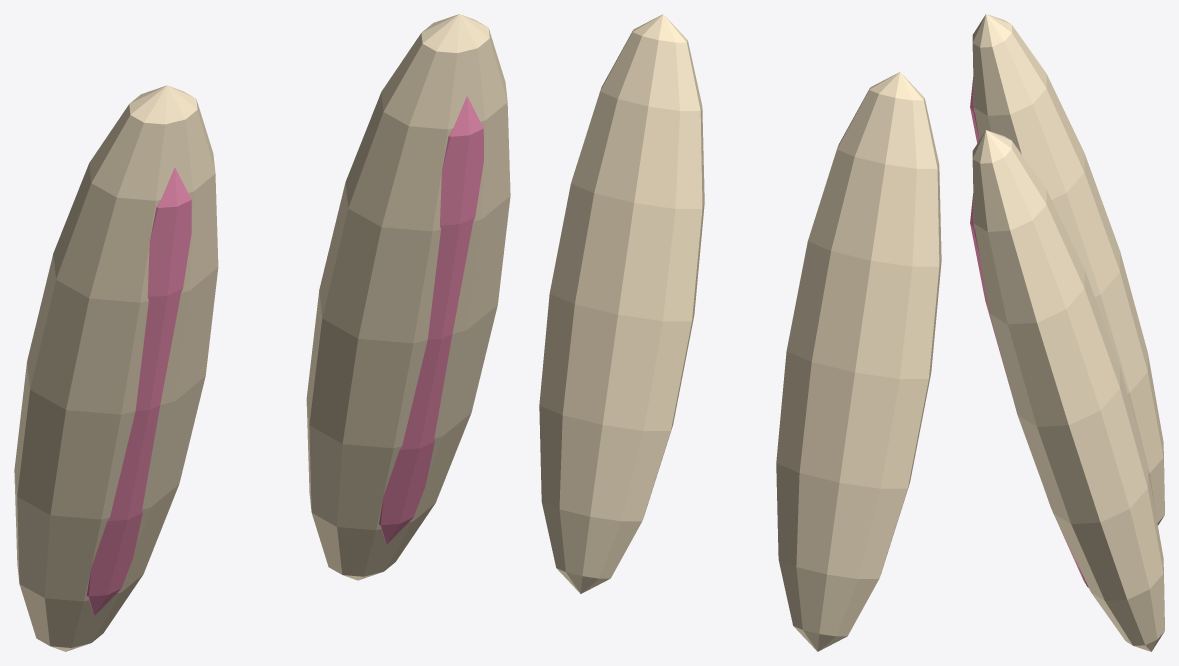
Rendered from hop_ears.glb.
3 renders of one model, left to right at view 1: azimuth 30°, elevation 25°; view 2: azimuth 150°, elevation 25°; view 3: azimuth 270°, elevation 25°, orthographic. The views are drawn at different scales.
Parts seen in each view (by area): view 1: hop_ears; view 2: hop_ears; view 3: hop_ears.
Boxes of the visible parts, bbox=[...] form: hop_ears: bbox=[14, 14, 510, 651]; hop_ears: bbox=[539, 14, 941, 651]; hop_ears: bbox=[970, 14, 1164, 651].
Bounding box in the file's own units: 0.35 × 0.4613 × 0.1561.
